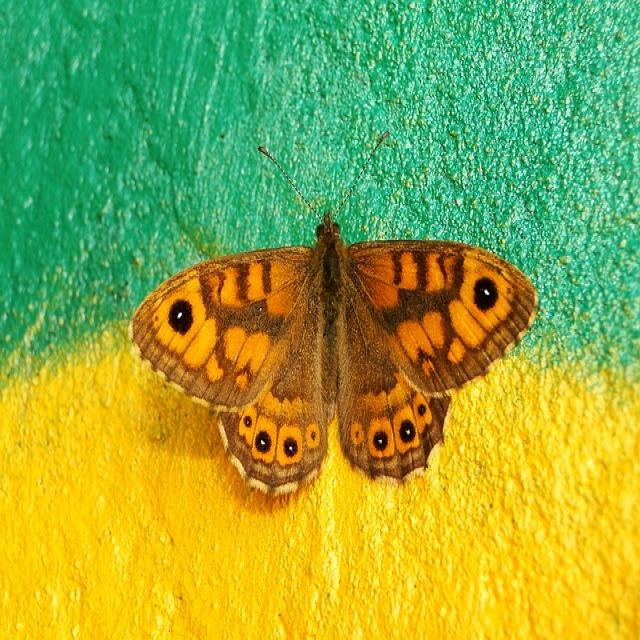butterfly: (130, 220, 538, 499)
